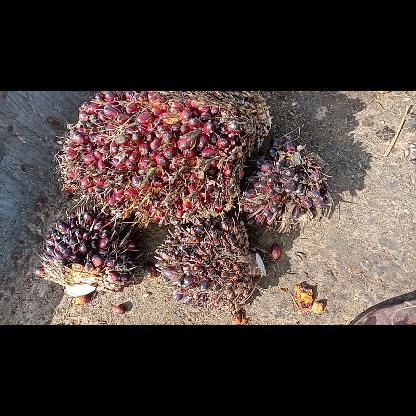TBS abnormal: (155, 222, 264, 306), (32, 213, 138, 295), (242, 144, 328, 232)
TBS masak: (57, 91, 273, 223)
